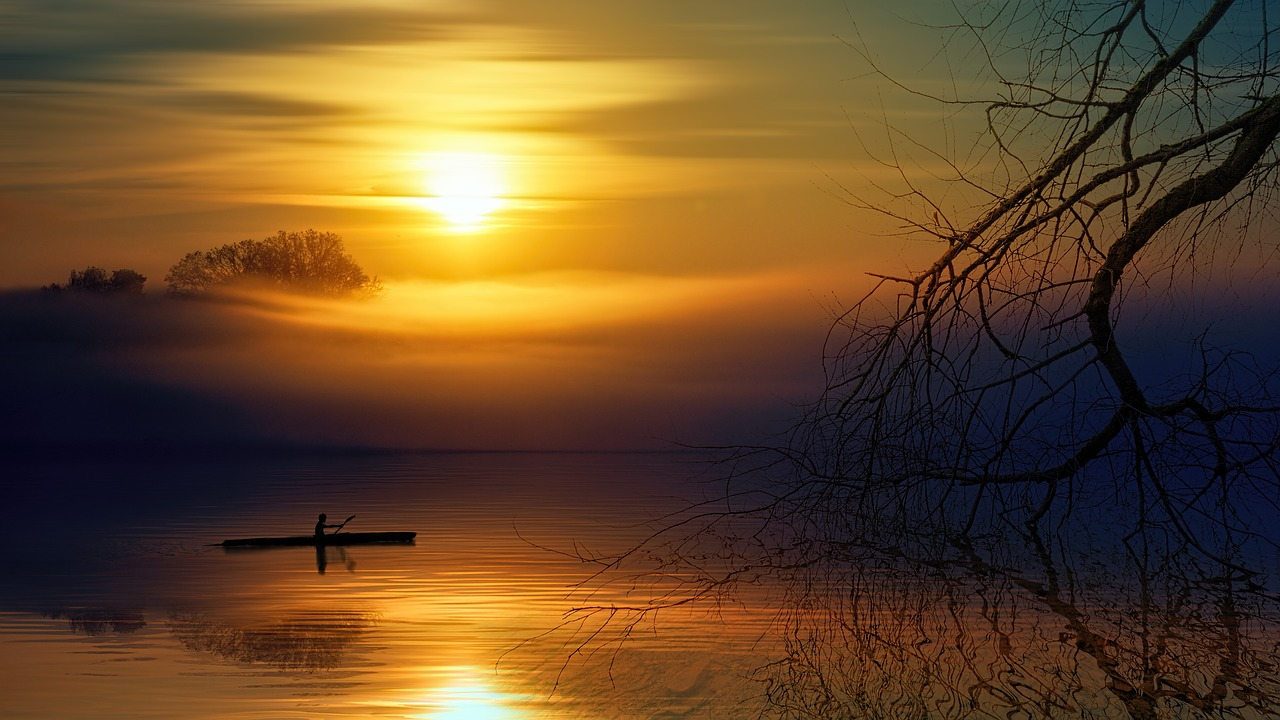kayak: (218, 531, 419, 549)
